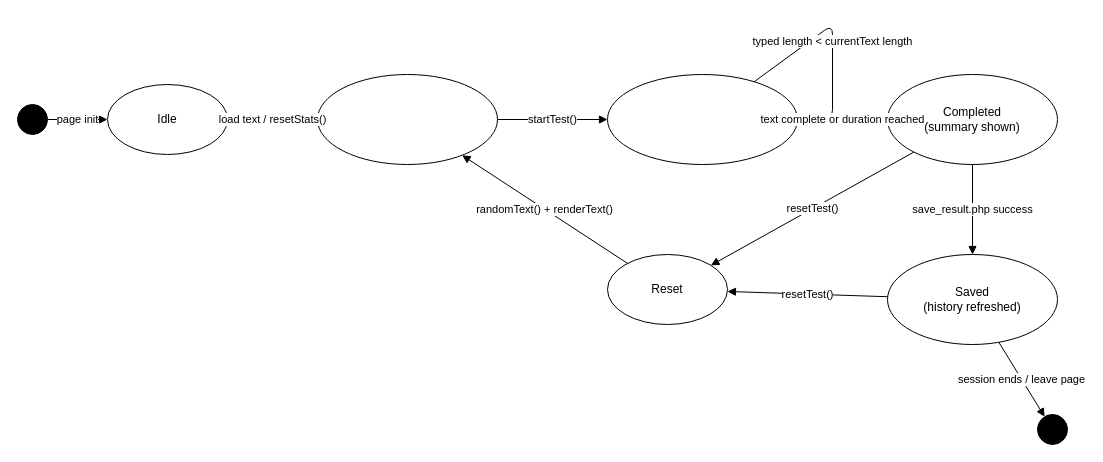
Some shapes in this 1103 by 462 pixel diagram are drawn without their labels. Here are the shapes that lost their labels. From the top down, the centre of each, then its label:
At point 407,119: "Ready (text loaded, input disabled)".
At point 702,119: "Running (timer active, input enabled)".
